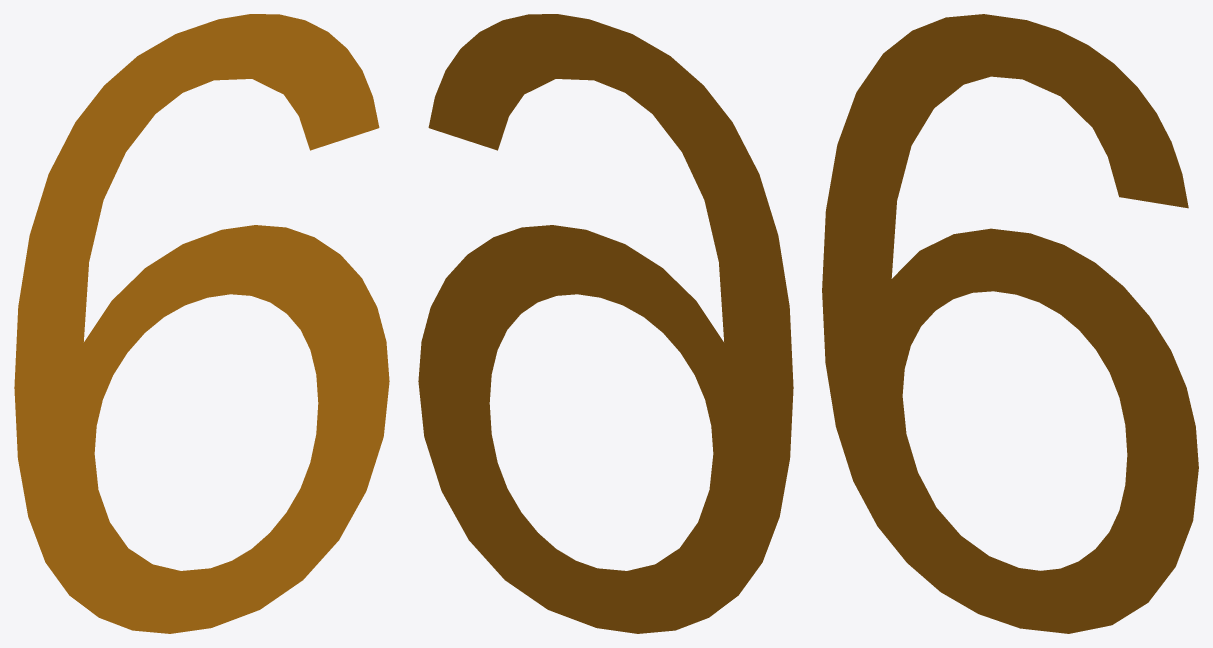
Rendered from original-15.obj.
The picture shows the model from 3 angles, left to right: view 1: azimuth 30°, elevation 25°; view 2: azimuth 150°, elevation 25°; view 3: azimuth 330°, elevation 25°; orthographic projection.
Parts seen in each view (by area): view 1: _6_1/_6/mesh18/mesh18-geometry#mesh18-geometry; view 2: _6_1/_6/mesh18/mesh18-geometry#mesh18-geometry; view 3: _6_1/_6/mesh18/mesh18-geometry#mesh18-geometry.
Boxes of the visible parts, x1=… form: _6_1/_6/mesh18/mesh18-geometry#mesh18-geometry: x1=14, y1=14, x2=389, y2=633; _6_1/_6/mesh18/mesh18-geometry#mesh18-geometry: x1=418, y1=14, x2=793, y2=633; _6_1/_6/mesh18/mesh18-geometry#mesh18-geometry: x1=822, y1=14, x2=1198, y2=633.
Bounding box in the file's own units: 0.0206 × 0.0319 × 0.
